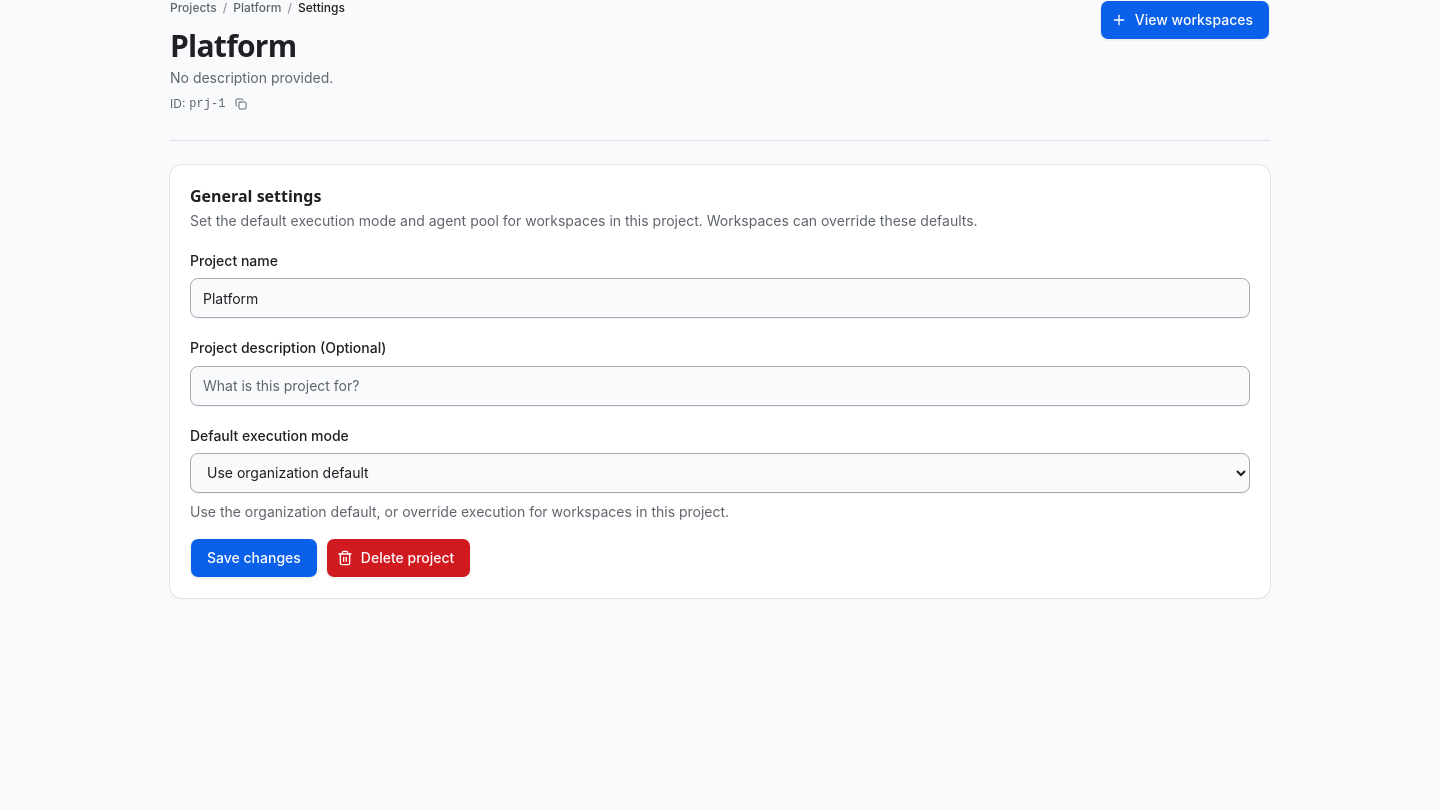
it: deletes a project from the project detail settings
The image size is (1440, 810).
Click the button "Delete project": (399, 558) [326, 538, 471, 578]
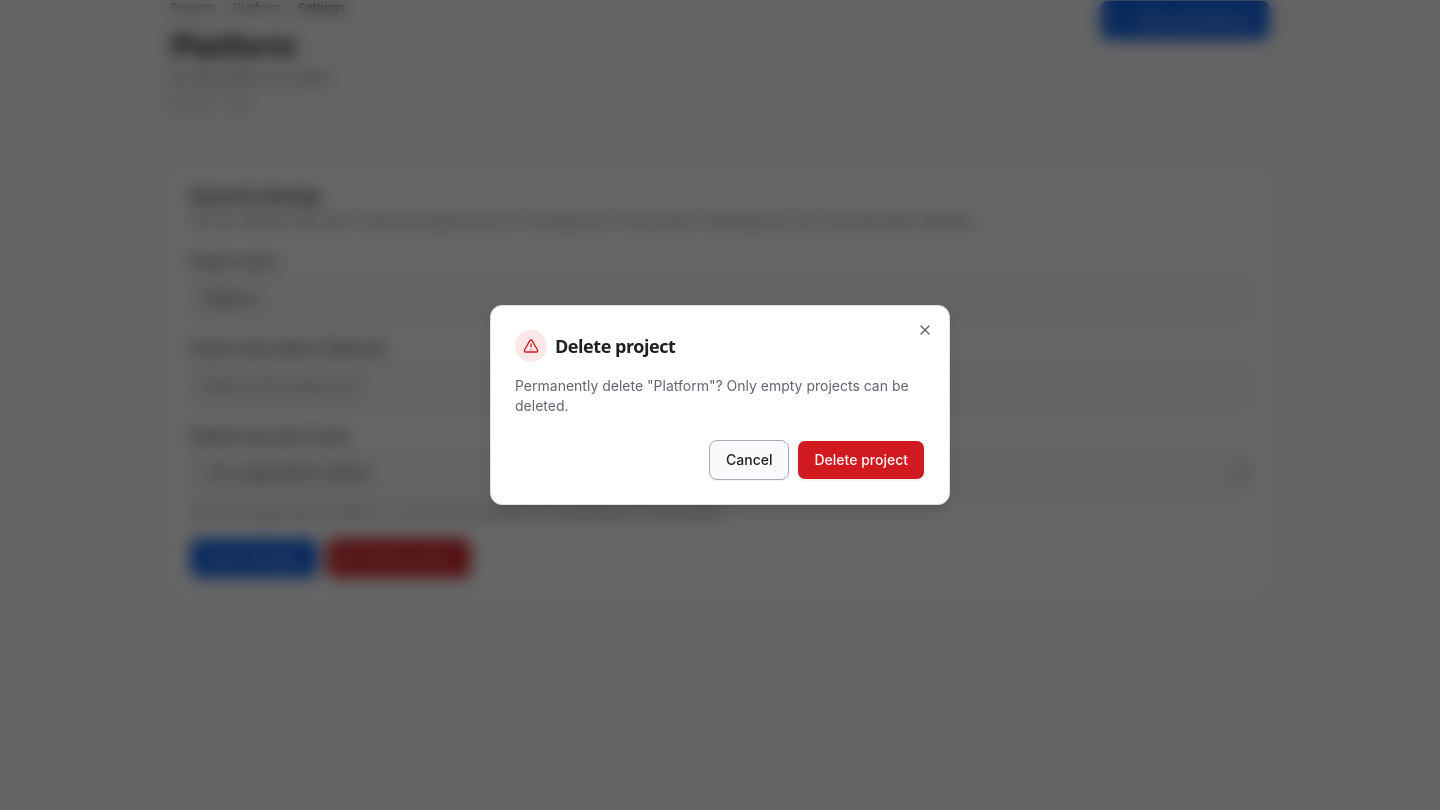
Click the button "Delete project": (861, 460) [798, 440, 925, 480]
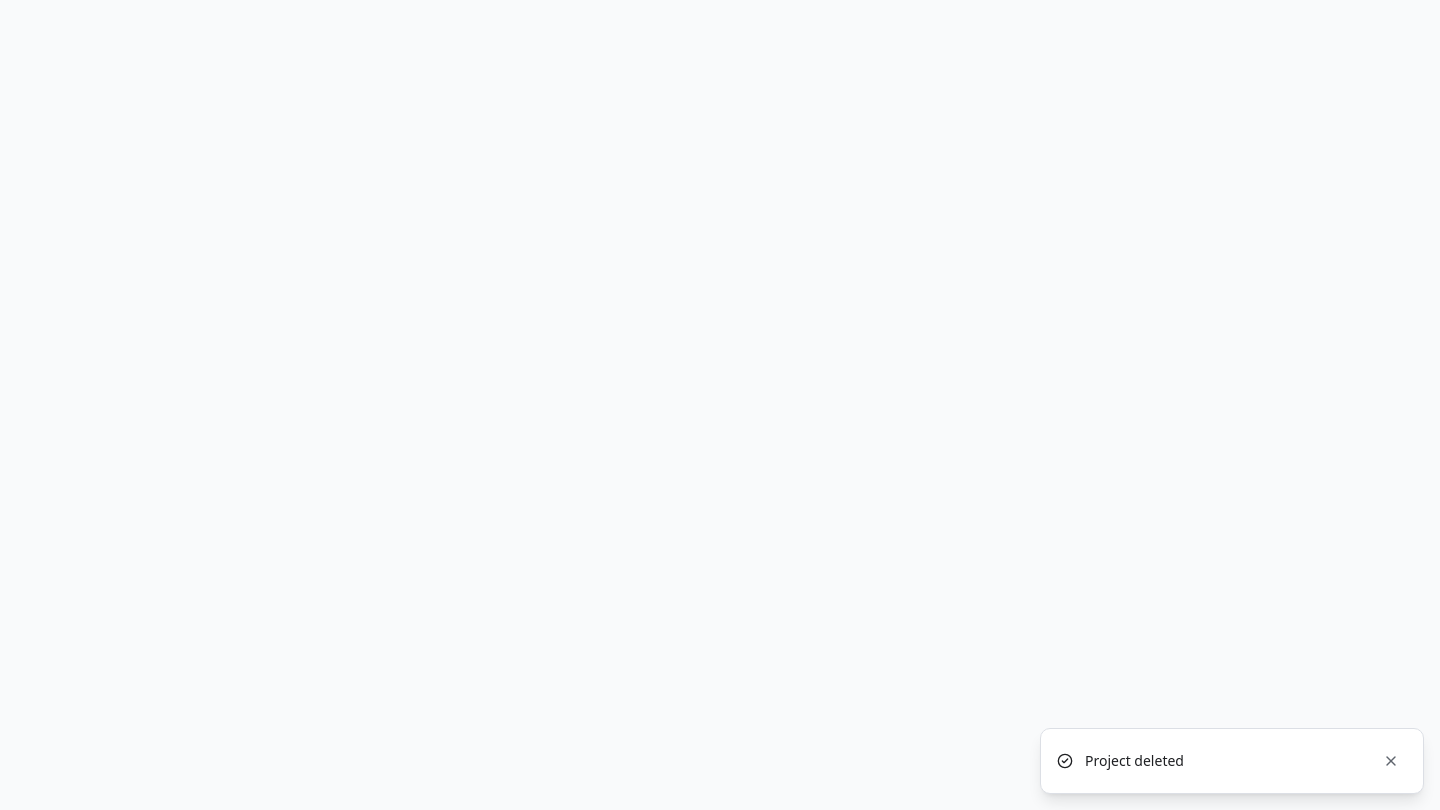
Now the heading "Project deleted" is shown, box [1085, 751, 1184, 770]
